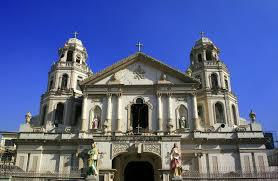quiapo_church_quiapo_manila: (11, 20, 269, 181)
